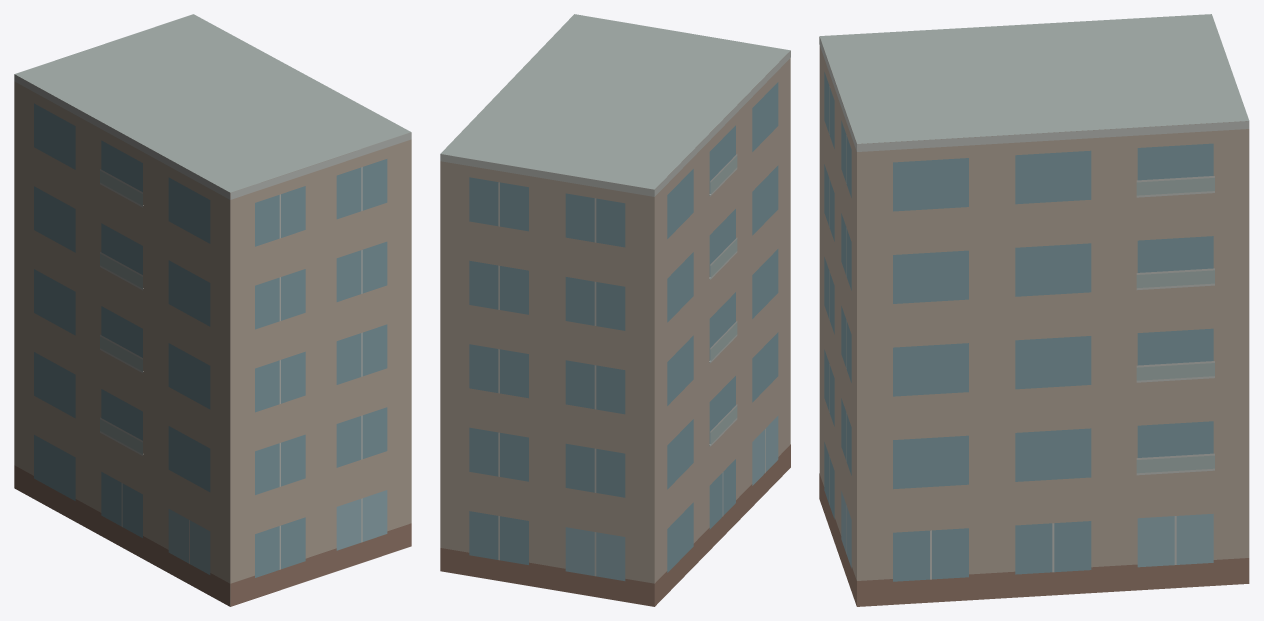
Rendered from survey-upis-32993811.glb.
The picture shows the model from 3 angles, left to right: view 1: azimuth 30°, elevation 25°; view 2: azimuth 150°, elevation 25°; view 3: azimuth 270°, elevation 25°; orthographic projection. The views are drawn at different scales.
Parts seen in each view (by area): view 1: survey-upis-32993811.tmp; view 2: survey-upis-32993811.tmp; view 3: survey-upis-32993811.tmp.
Part boxes in pixels (box(x1,y1,x2,y2)): survey-upis-32993811.tmp: box(14, 14, 411, 606); survey-upis-32993811.tmp: box(440, 14, 790, 606); survey-upis-32993811.tmp: box(819, 14, 1249, 606).
Size of the model in its own units: 8.45 by 14 by 11.8.
